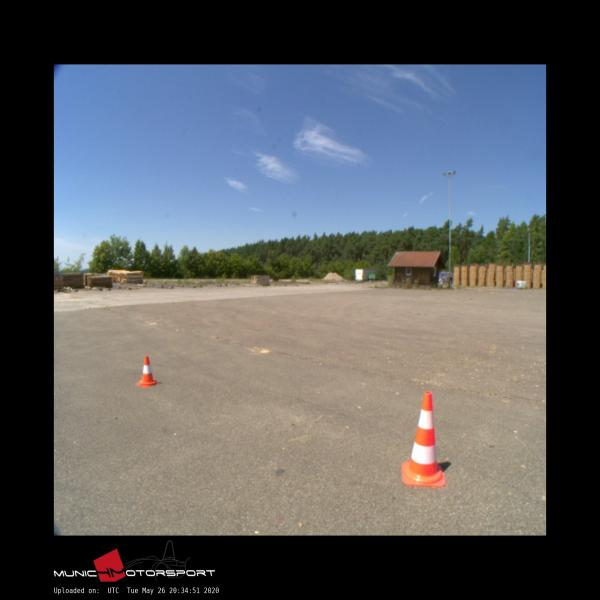large_orange_cone: (402, 390, 445, 486)
orange_cone: (136, 355, 159, 387)
